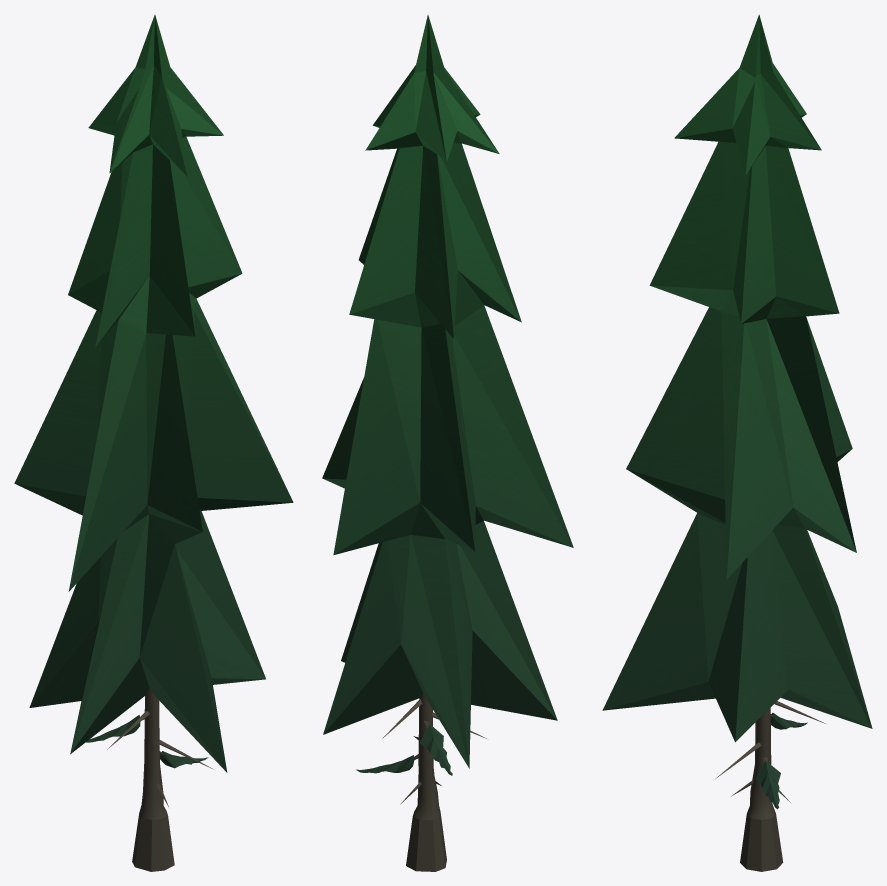
The model's file is prop_tree_I.fbx.
3 views of the same model, side by side, from view 1: azimuth 30°, elevation 25°; view 2: azimuth 150°, elevation 25°; view 3: azimuth 270°, elevation 25° (orthographic).
Visible parts, largest first — view 1: prop_tree_i; view 2: prop_tree_i; view 3: prop_tree_i.
Part boxes in pixels (bbox=[...]): prop_tree_i: bbox=[14, 15, 293, 871]; prop_tree_i: bbox=[322, 15, 573, 871]; prop_tree_i: bbox=[602, 14, 872, 871].
Size of the model in its own units: 342 by 1163 by 336.
Materials: 1 (1 with a texture image).
